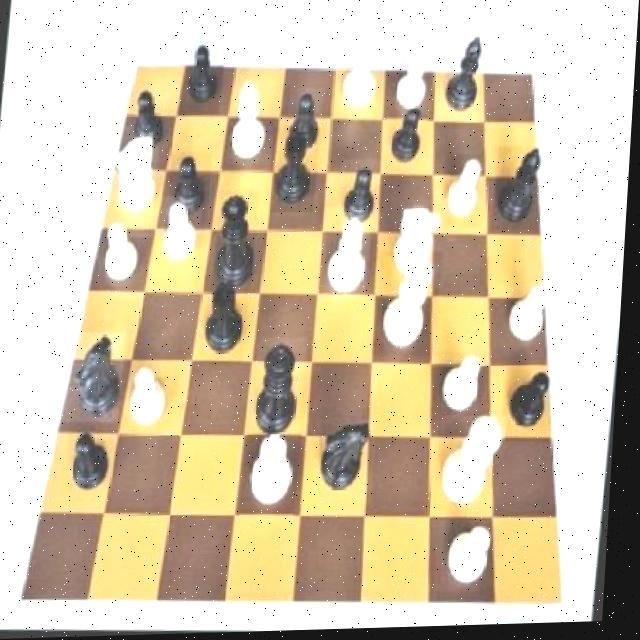bishop: (494, 149, 549, 236), (438, 32, 485, 127)
black-bishop: (256, 338, 313, 443)
black-king: (68, 330, 130, 424), (317, 420, 384, 506)
black-knight: (506, 368, 562, 447), (179, 36, 227, 118), (69, 424, 120, 495), (338, 160, 386, 234), (131, 84, 175, 161), (168, 152, 213, 226), (383, 110, 430, 174), (286, 89, 325, 162)
black-pawn: (215, 192, 263, 294)
black-queen: (268, 128, 322, 215), (203, 279, 254, 367)
black-rook: (321, 208, 376, 300), (229, 75, 276, 167)
white-bishop: (440, 418, 511, 512)
white-king: (388, 199, 450, 292), (111, 127, 163, 223)
white-knight: (439, 517, 506, 598), (154, 197, 205, 281), (435, 354, 492, 426), (100, 213, 151, 291), (126, 359, 176, 436), (504, 285, 558, 356), (389, 47, 435, 119), (443, 156, 483, 230)
white-pawn: (373, 252, 445, 360)
white-queen: (246, 432, 308, 520), (337, 36, 384, 114)
